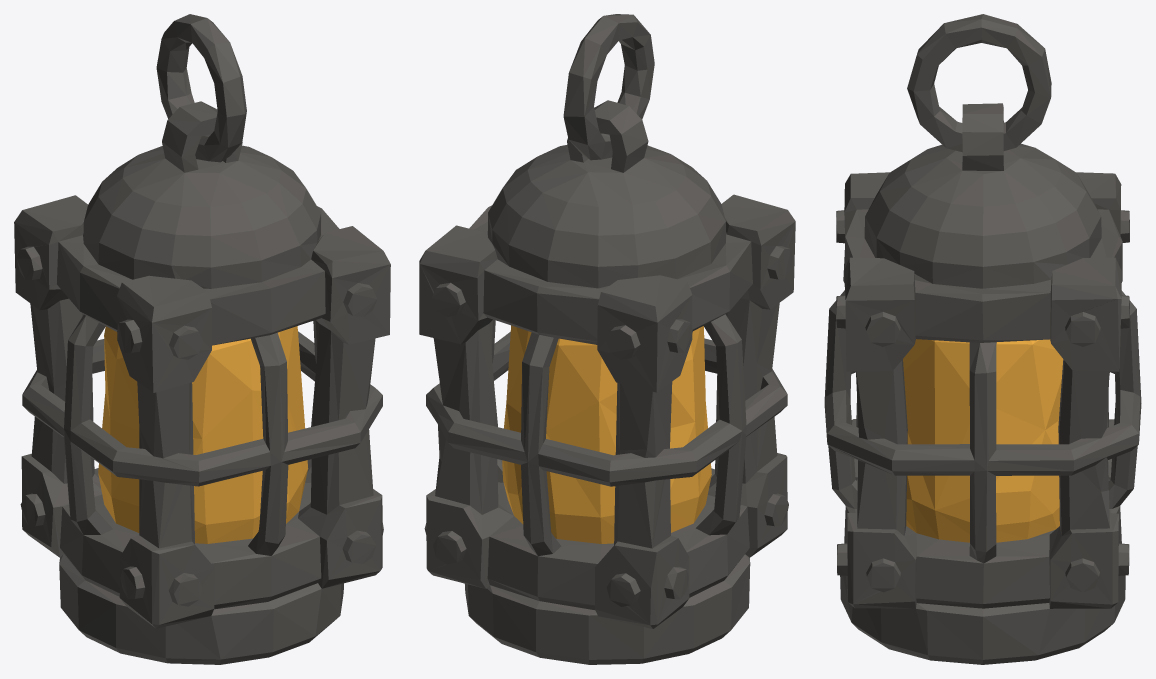
Rendered from IronOilLantern.fbx.
3 views of the same model, side by side, from view 1: azimuth 30°, elevation 25°; view 2: azimuth 150°, elevation 25°; view 3: azimuth 270°, elevation 25° (orthographic).
Visible parts, largest first — view 1: IronOilLantern; view 2: IronOilLantern; view 3: IronOilLantern.
Boxes of the visible parts, <box> form: IronOilLantern: <box>14,14,390,664</box>; IronOilLantern: <box>419,14,795,664</box>; IronOilLantern: <box>824,14,1141,664</box>.
Bounding box in the file's own units: 0.2017 × 0.202 × 0.4248.
